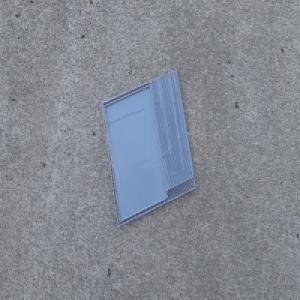PlasticPart: (100, 66, 196, 228)
